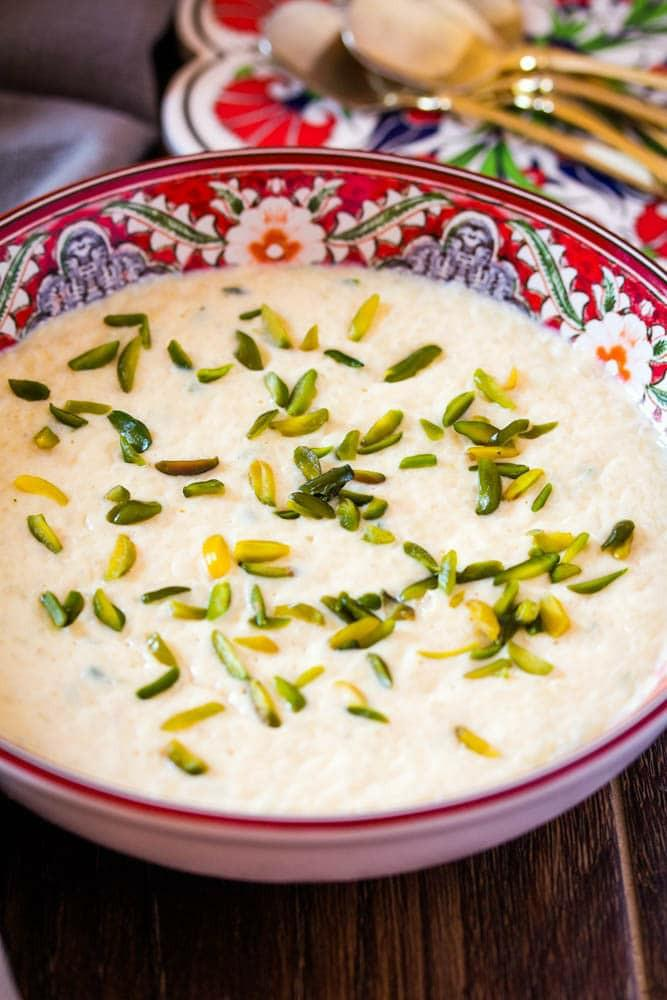Kheer: (0, 264, 667, 813)
